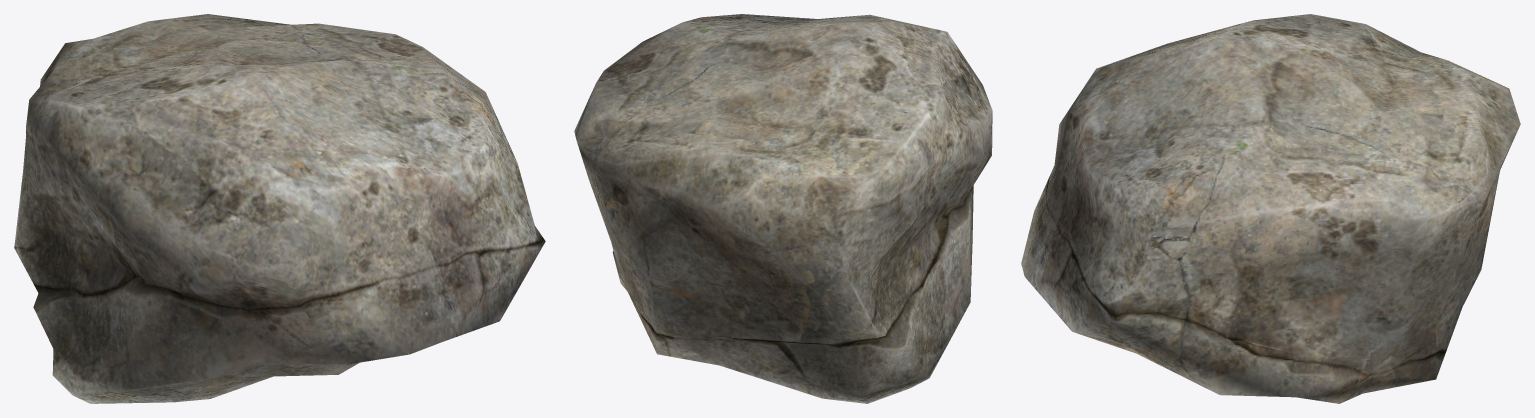
File: Rock1A.fbx
3 views of the same model, side by side, from view 1: azimuth 30°, elevation 25°; view 2: azimuth 150°, elevation 25°; view 3: azimuth 270°, elevation 25° (orthographic). The views are drawn at different scales.
Parts seen in each view (by area): view 1: Rock1_600_tris:polySurface5; view 2: Rock1_600_tris:polySurface5; view 3: Rock1_600_tris:polySurface5.
Part boxes in pixels (bbox=[...]): Rock1_600_tris:polySurface5: bbox=[14, 14, 545, 403]; Rock1_600_tris:polySurface5: bbox=[574, 14, 992, 403]; Rock1_600_tris:polySurface5: bbox=[1021, 14, 1520, 403].
Bounding box in the file's own units: 1.38 × 1.2 × 1.66.
Materials: 1 (1 with a texture image).
